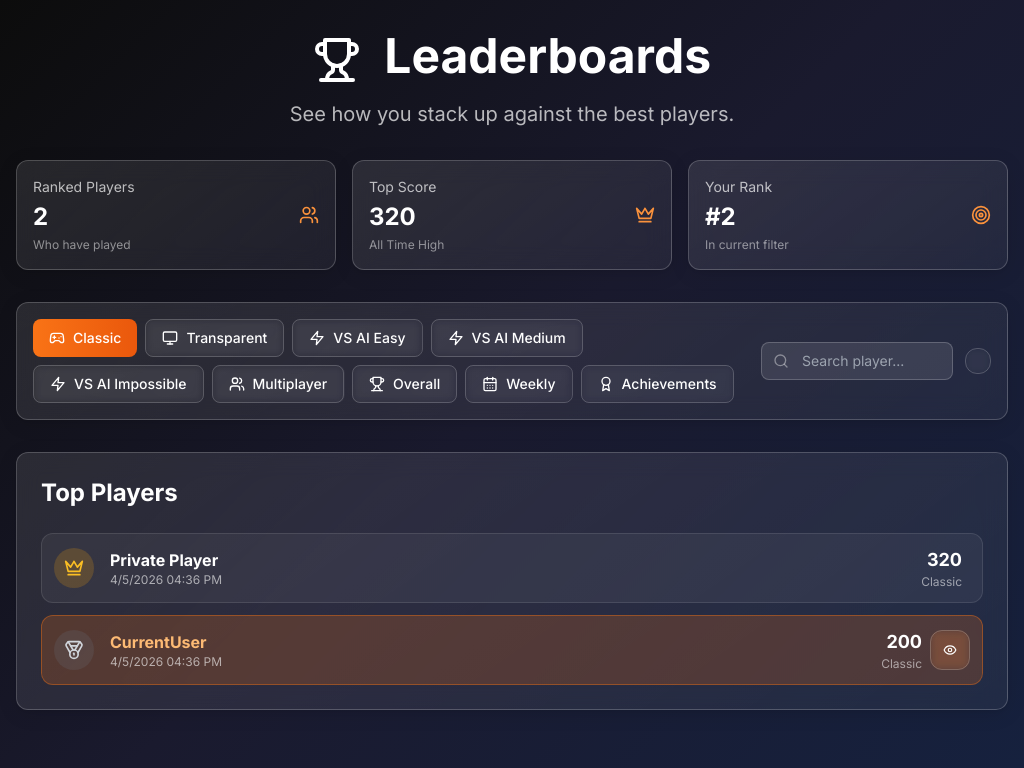
Scenario: LeaderboardPage › loads overall leaderboard source when overall filter is selected
Expected: the text "Private Player" is shown, [110,548,222,572]
What coordinates should you click on to do the following:
click the button "Overall"
I would click on:
 (405, 384)
Its box is [352,365,457,403].
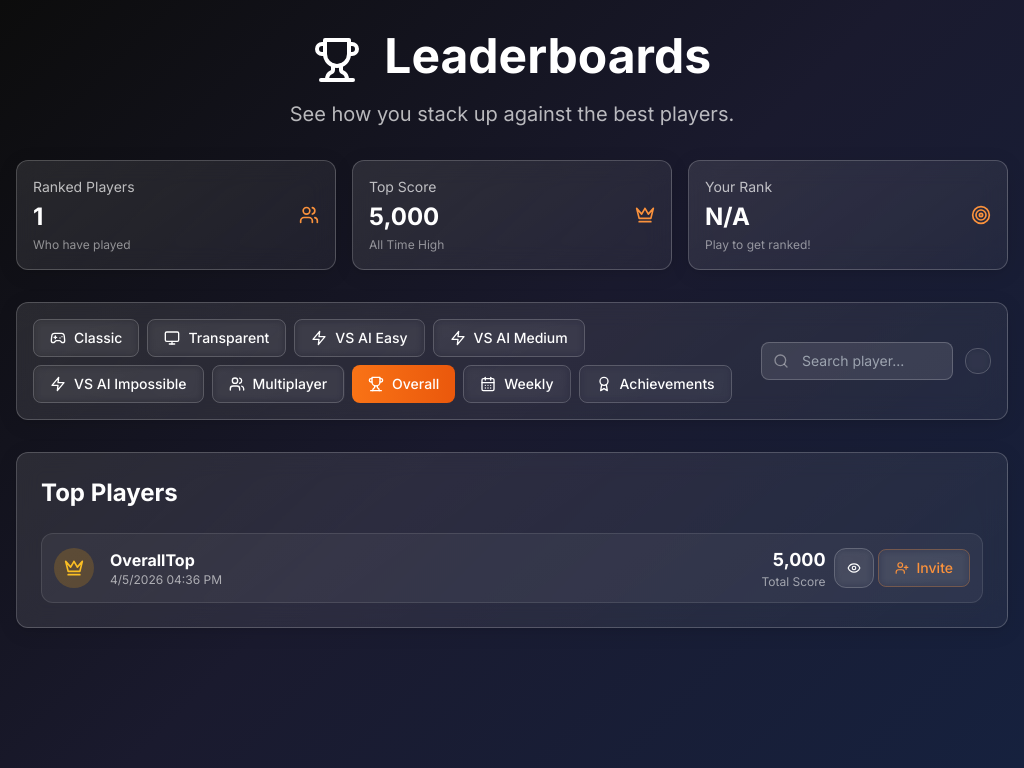
Expected: the text "OverallTop" is shown, [110,550,195,570]
